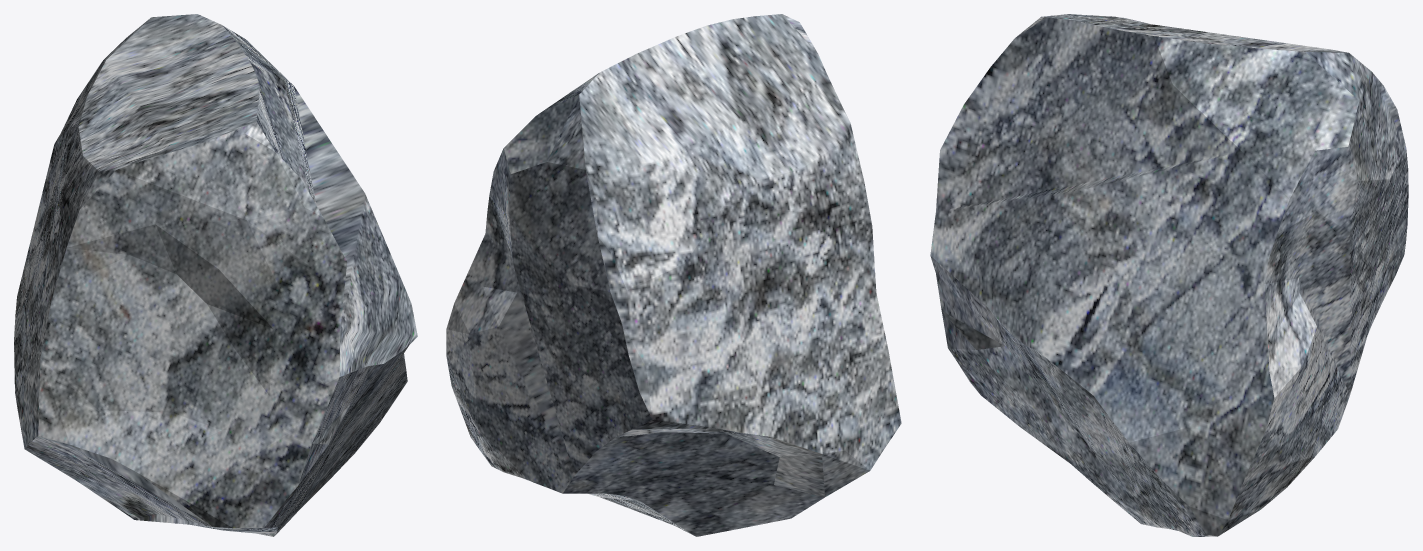
File: Rock2.fbx
The picture shows the model from 3 angles, left to right: view 1: azimuth 30°, elevation 25°; view 2: azimuth 150°, elevation 25°; view 3: azimuth 270°, elevation 25°; orthographic projection. The views are drawn at different scales.
Parts seen in each view (by area): view 1: Cube; view 2: Cube; view 3: Cube.
Part boxes in pixels (left/top/right/bottom): Cube: left=14, top=14, right=417, bottom=536; Cube: left=446, top=14, right=901, bottom=536; Cube: left=930, top=14, right=1408, bottom=536.
Size of the model in its own units: 225 by 264 by 238.
Materials: 1 (1 with a texture image).
